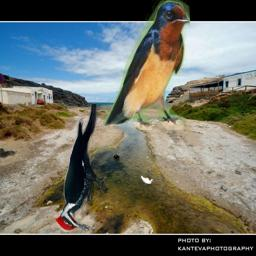Swallow: (103, 0, 190, 130)
Woodpecker: (55, 104, 107, 234)
